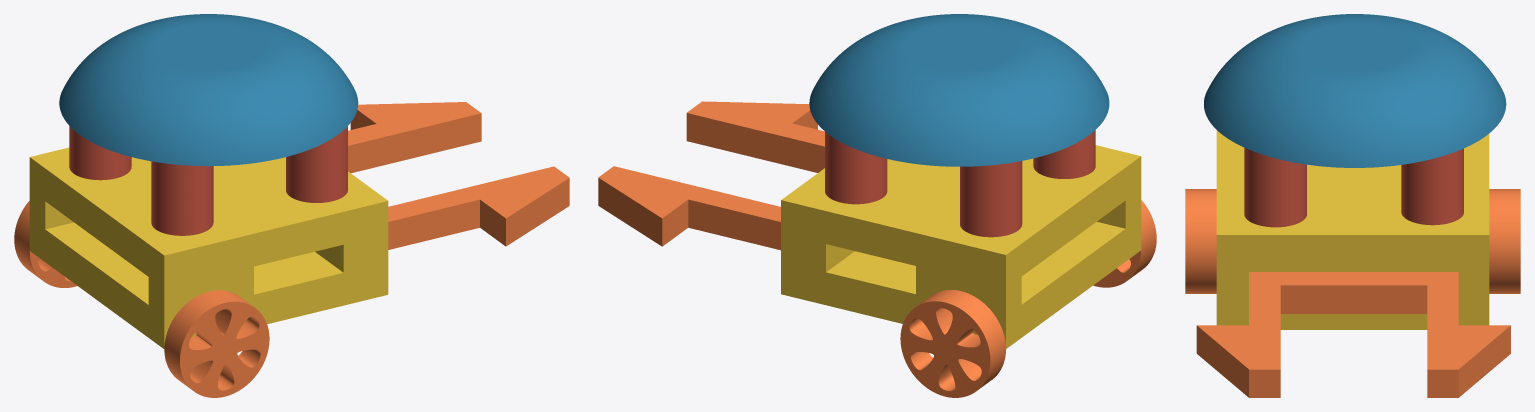
File: ConnectionPart.glb
3 renders of one model, left to right at view 1: azimuth 30°, elevation 25°; view 2: azimuth 150°, elevation 25°; view 3: azimuth 270°, elevation 25°, orthographic.
Parts seen in each view (by area): view 1: Connection2_BL (×8); view 2: Connection2_BL (×8); view 3: Connection2_BL (×7).
Boxes of the visible parts, <box> form: Connection2_BL (×8): <box>14,14,569,397</box>; Connection2_BL (×8): <box>598,14,1156,397</box>; Connection2_BL (×7): <box>1185,14,1520,397</box>.
Size of the model in its own units: 0.0489 by 0.029 by 0.032.
